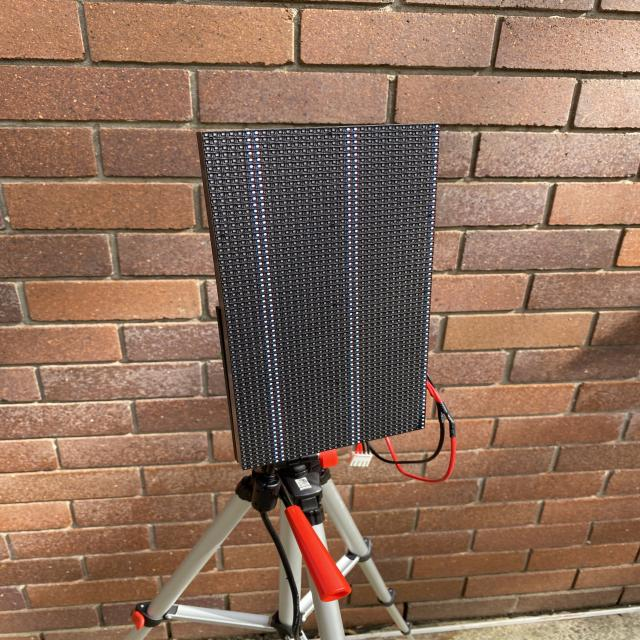matrix: (167, 110, 487, 482)
